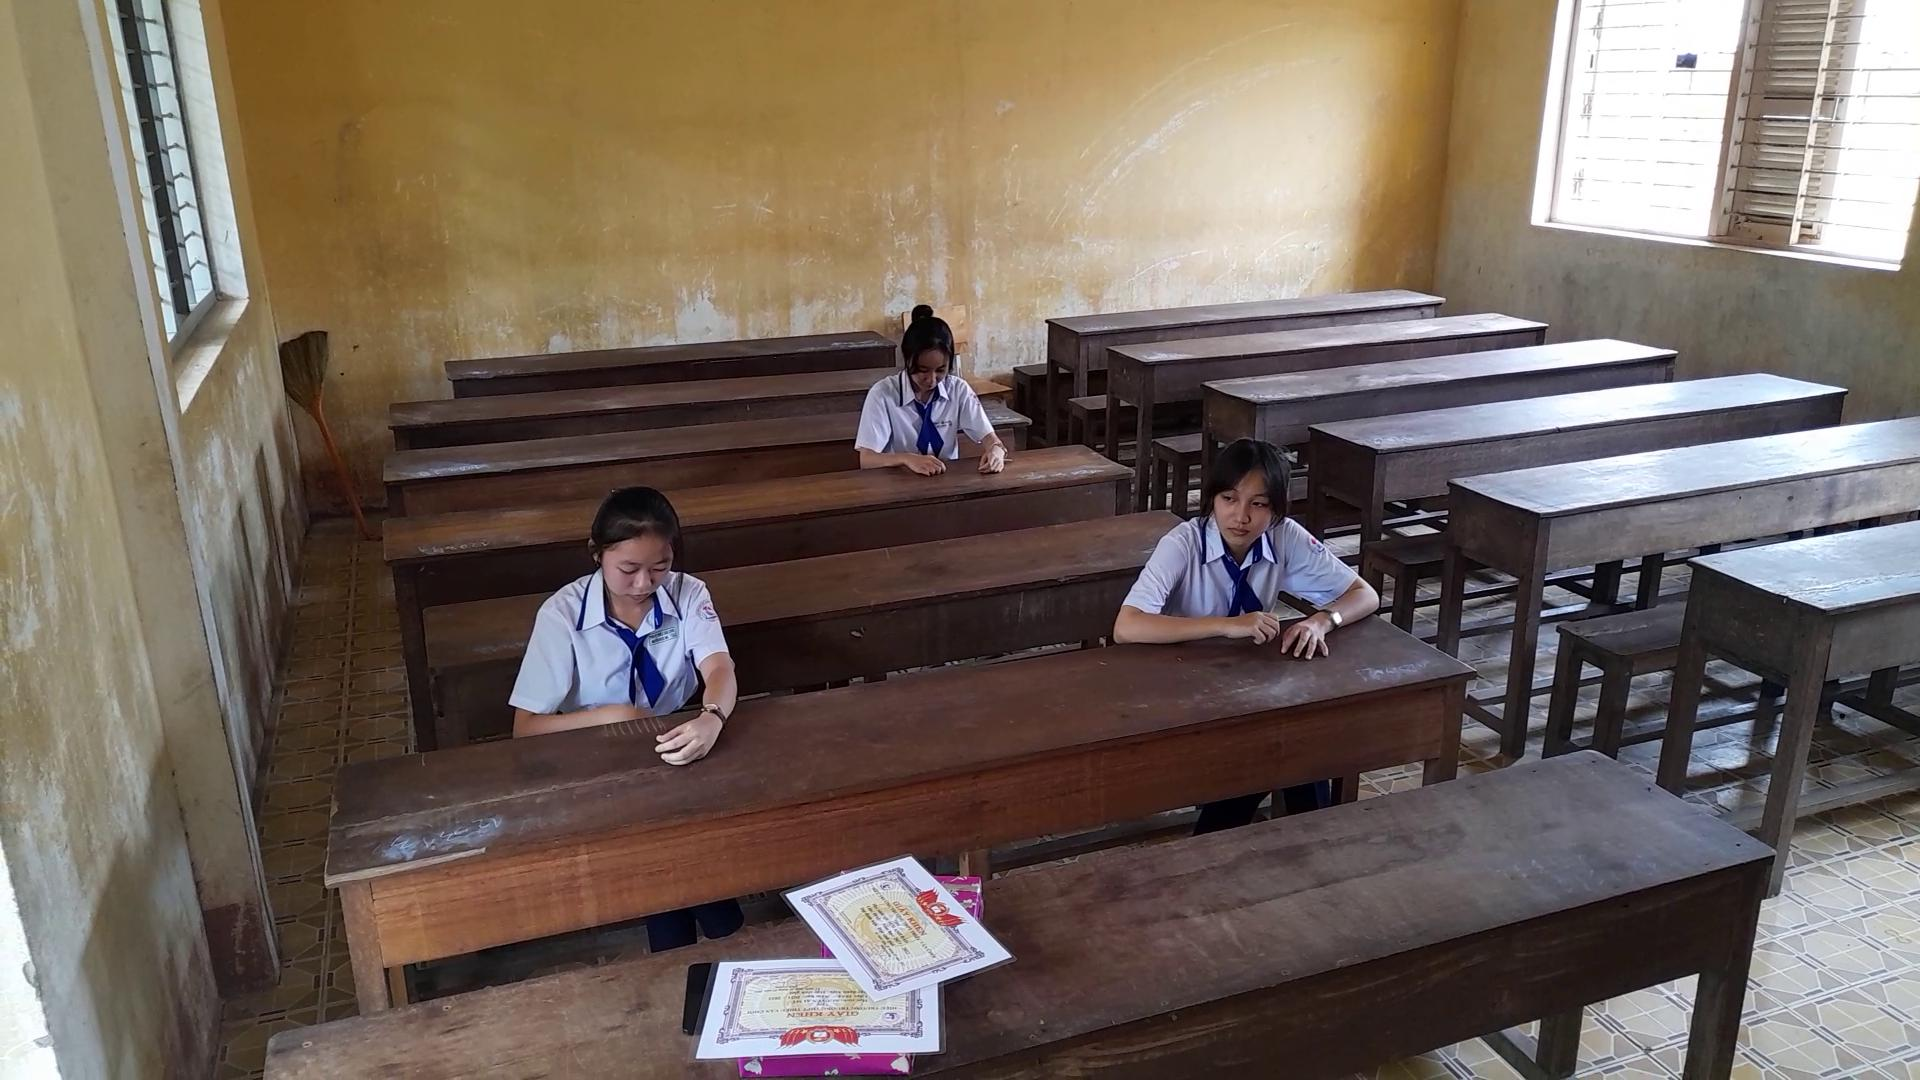Bend Over The Desk: (556, 471, 688, 615), (873, 272, 984, 396)
Hand Under Table: (502, 576, 649, 738)
Look Around: (1178, 419, 1302, 568)
